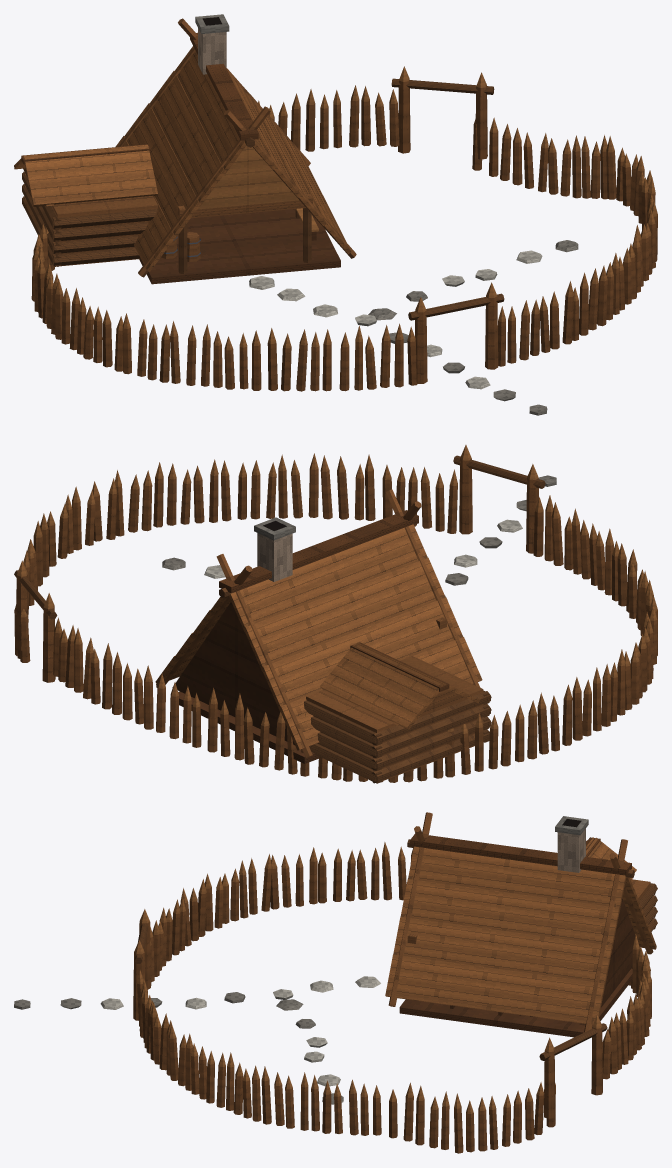
Rendered from island_buildings.glb.
3 renders of one model, top to bottom at view 1: azimuth 30°, elevation 25°; view 2: azimuth 150°, elevation 25°; view 3: azimuth 270°, elevation 25°, orthographic. The views are drawn at different scales.
Visible parts, largest first — view 1: House_Roof.001, House_Annex.001, House_Walls.001, House_Frame.001, Path_Stones.001, Gate_Mesh.001, Gate.003, House_Forge.001, House_Props.001; view 2: House_Roof.001, House_Annex.001, House_Walls.001, House_Frame.001, Gate_Mesh.001, House_Forge.001, Gate.003, Path_Stones.001, Stake.175, Stake.139, Stake.214, Stake.148 (+40 smaller); view 3: House_Roof.001, House_Walls.001, House_Frame.001, Path_Stones.001, Gate.003, House_Forge.001, House_Annex.001, Gate_Mesh.001, Stake.121.
Part boxes in pixels (x1,y1,x2,y2): House_Roof.001: (115,32,351,271); House_Annex.001: (14,144,157,266); House_Walls.001: (139,146,340,284); House_Frame.001: (118,18,356,277); Path_Stones.001: (249,240,578,415); Gate_Mesh.001: (408,282,504,383); Gate.003: (391,66,494,159); House_Forge.001: (195,14,229,74); House_Props.001: (161,208,318,262); House_Roof.001: (155,510,482,750); House_Annex.001: (304,642,491,783); House_Walls.001: (172,602,318,763); House_Frame.001: (156,489,480,758); Gate_Mesh.001: (453,445,545,553); House_Forge.001: (254,517,295,581); Gate.003: (14,560,57,682); Path_Stones.001: (162,475,556,600); Stake.175: (572,677,582,740); Stake.139: (102,643,112,709); Stake.214: (365,454,375,520); Stake.148: (207,687,217,752); House_Roof.001: (385,833,656,1024); House_Walls.001: (399,898,635,1037); House_Frame.001: (388,812,653,1032); Path_Stones.001: (14,976,380,1104); Gate.003: (539,1014,607,1118); House_Forge.001: (555,816,588,872); House_Annex.001: (586,837,657,931); Gate_Mesh.001: (133,909,150,1020); Stake.121: (415,1085,424,1145).
Bounding box in the file's own units: 21.34 × 7.63 × 22.89.
Materials: 1 (1 with a texture image).
